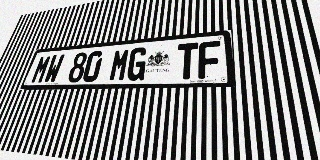0: (81, 51, 104, 82)
8: (67, 52, 89, 83)
F: (198, 41, 221, 79)
G: (126, 47, 148, 81)
M: (108, 48, 131, 81), (30, 55, 52, 84)
T: (176, 42, 198, 80)
W: (43, 54, 65, 83)
